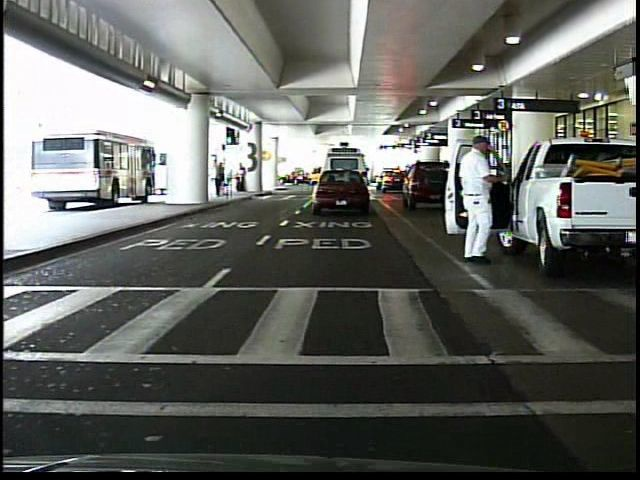person: (455, 130, 505, 263), (212, 155, 226, 201), (233, 163, 249, 197)
